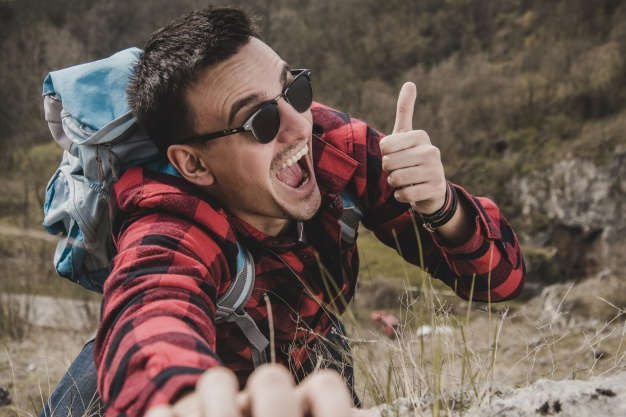thumbsup: (378, 81, 445, 203)
